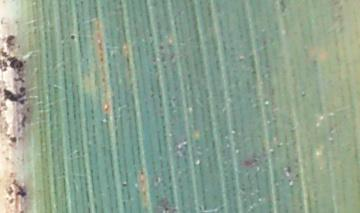tarspot: (1, 33, 29, 84), (1, 86, 27, 106), (16, 109, 27, 132), (277, 1, 287, 16), (6, 134, 18, 145), (286, 164, 292, 176), (69, 33, 77, 41), (152, 176, 160, 184), (299, 92, 309, 98), (276, 142, 282, 151)
